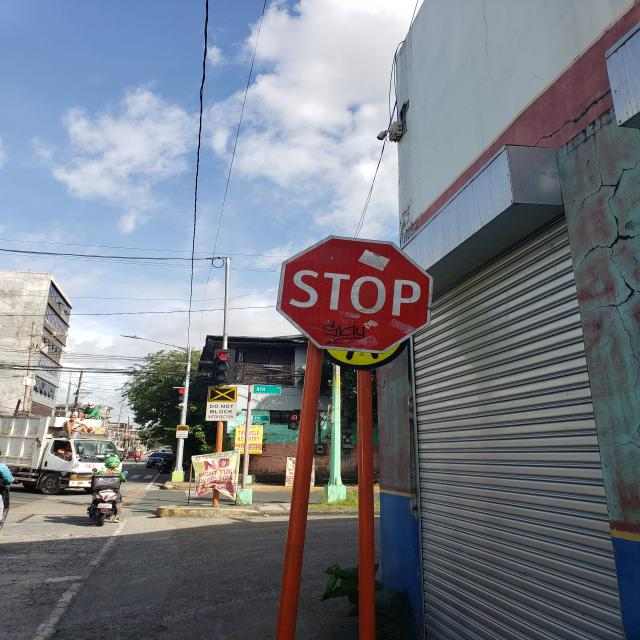stop-sign: (276, 235, 433, 354)
